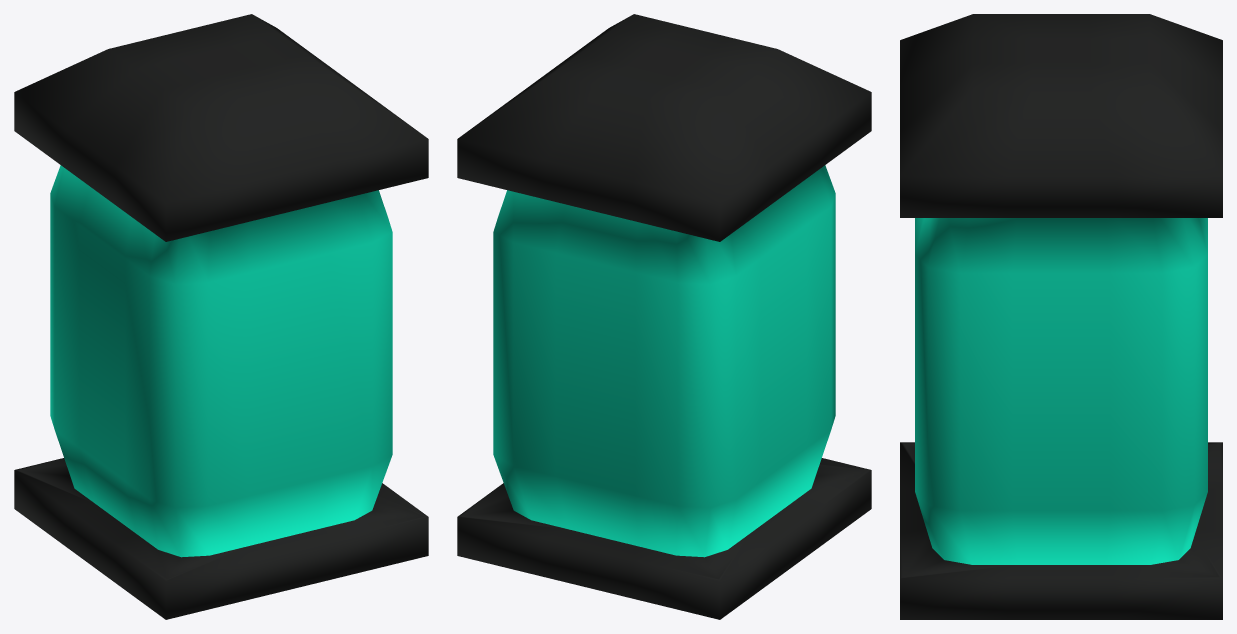
File: LampFloor1.fbx
The picture shows the model from 3 angles, left to right: view 1: azimuth 30°, elevation 25°; view 2: azimuth 150°, elevation 25°; view 3: azimuth 270°, elevation 25°; orthographic projection. The views are drawn at different scales.
Visible parts, largest first — view 1: LampFloor1; view 2: LampFloor1; view 3: LampFloor1.
Part boxes in pixels (box(x1,y1,x2,y2)): LampFloor1: box(14, 14, 428, 619); LampFloor1: box(457, 14, 871, 619); LampFloor1: box(900, 14, 1222, 619).
Bounding box in the file's own units: 13.9 × 25.24 × 13.9.
